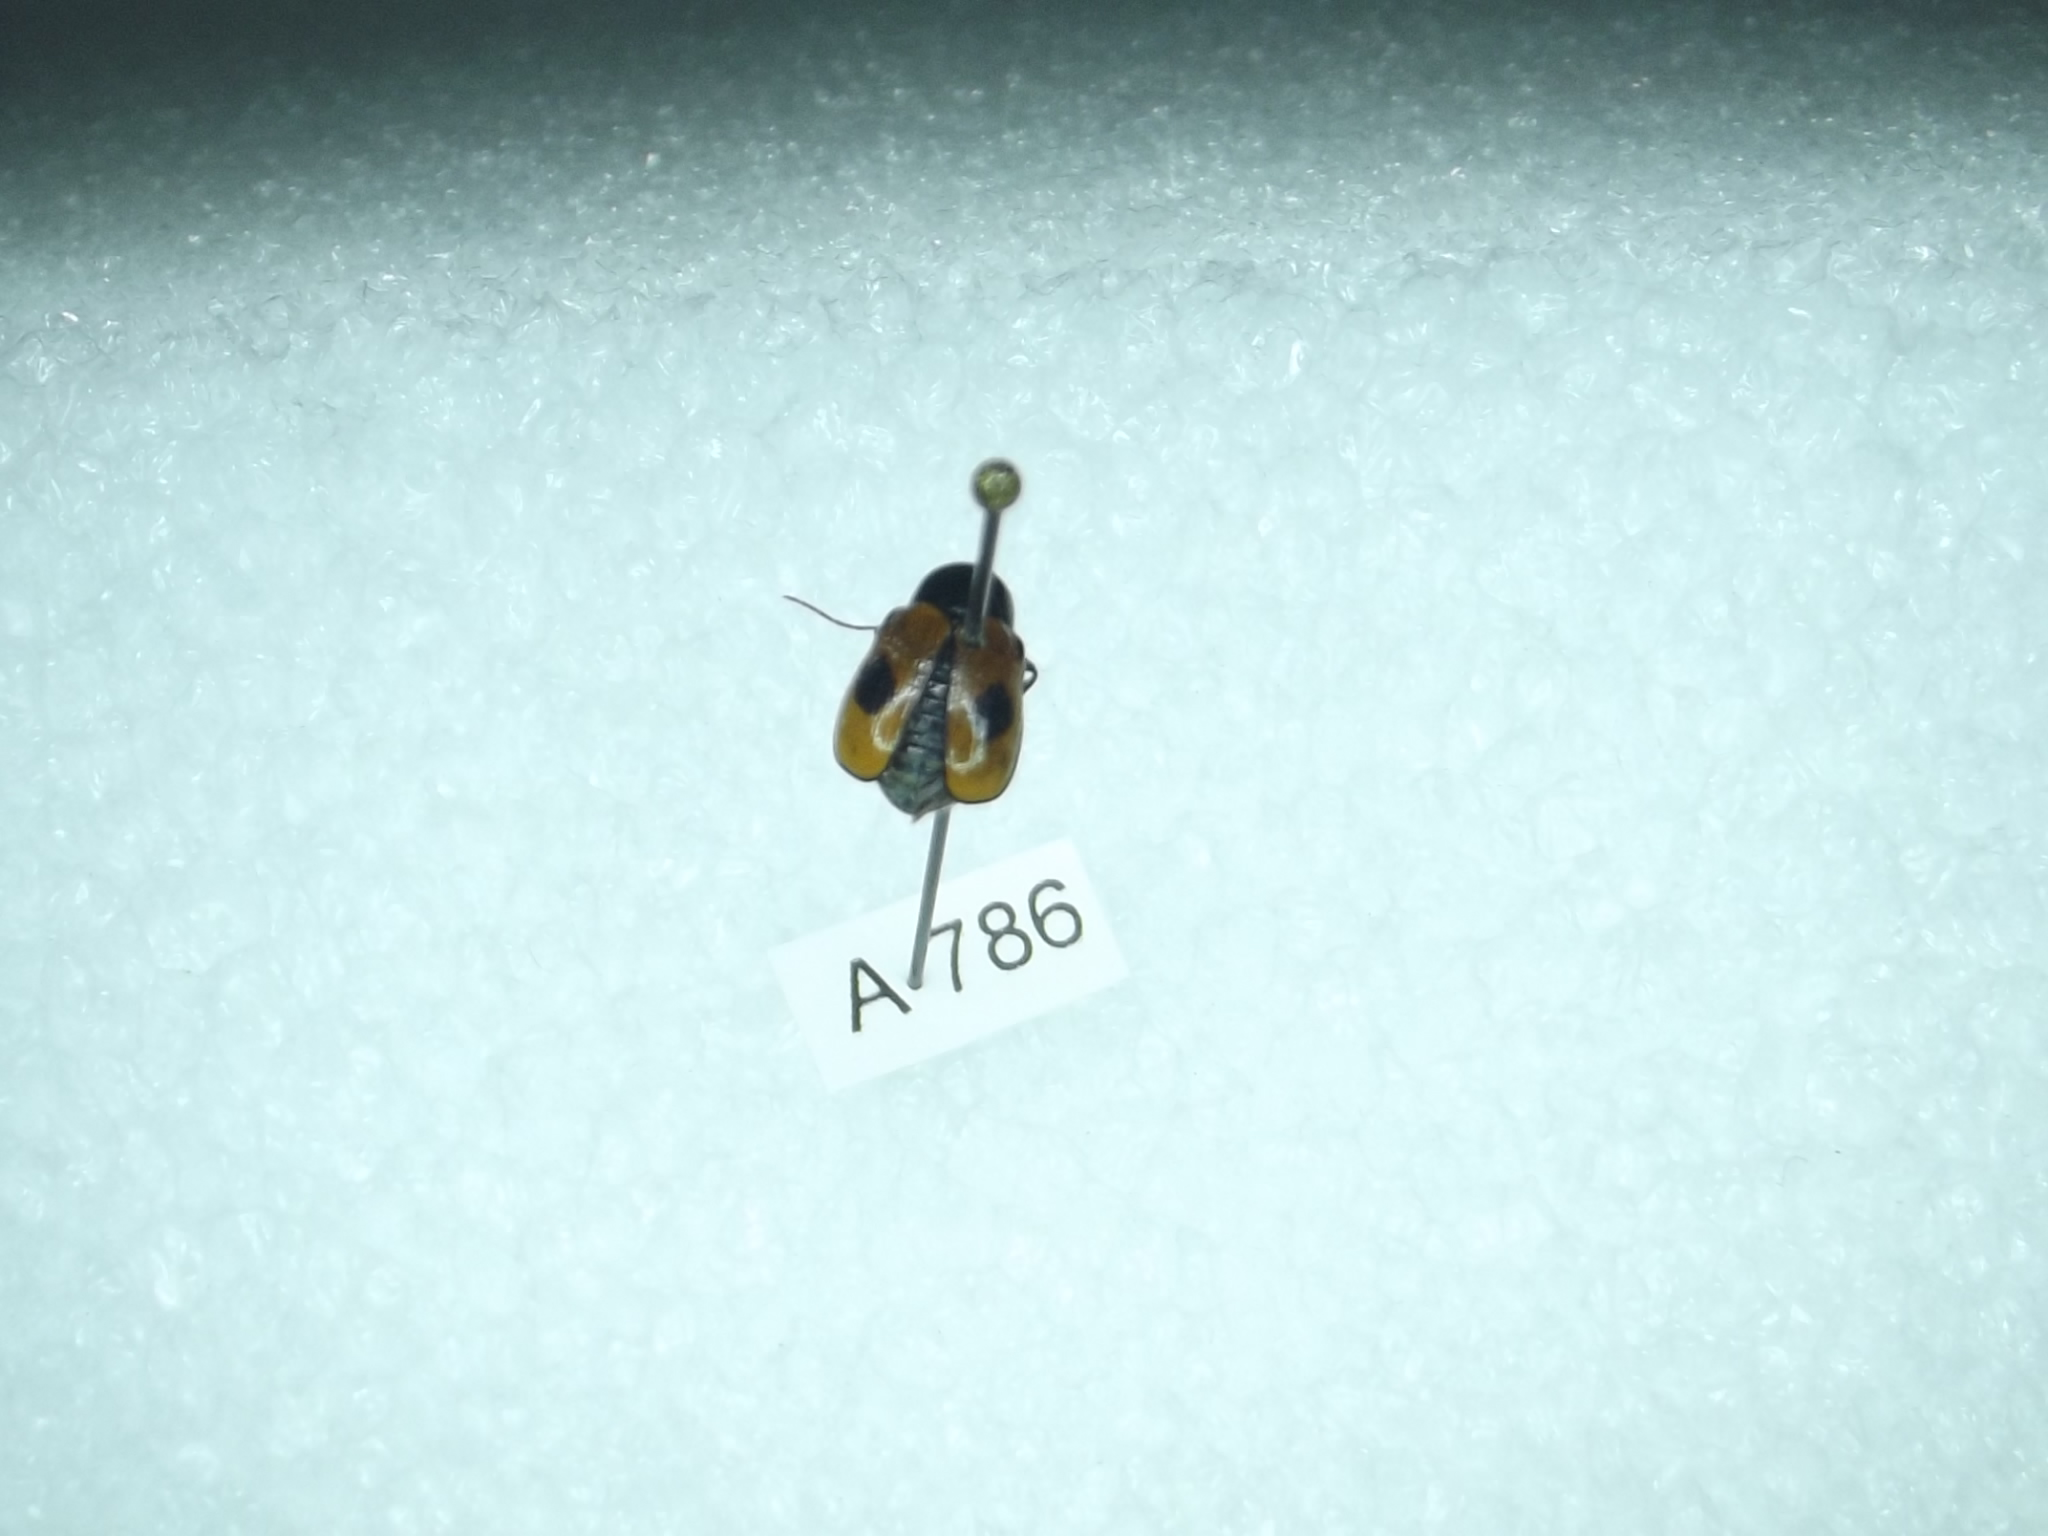Cryptocephalus_bipunctatus: (774, 547, 1040, 816)
